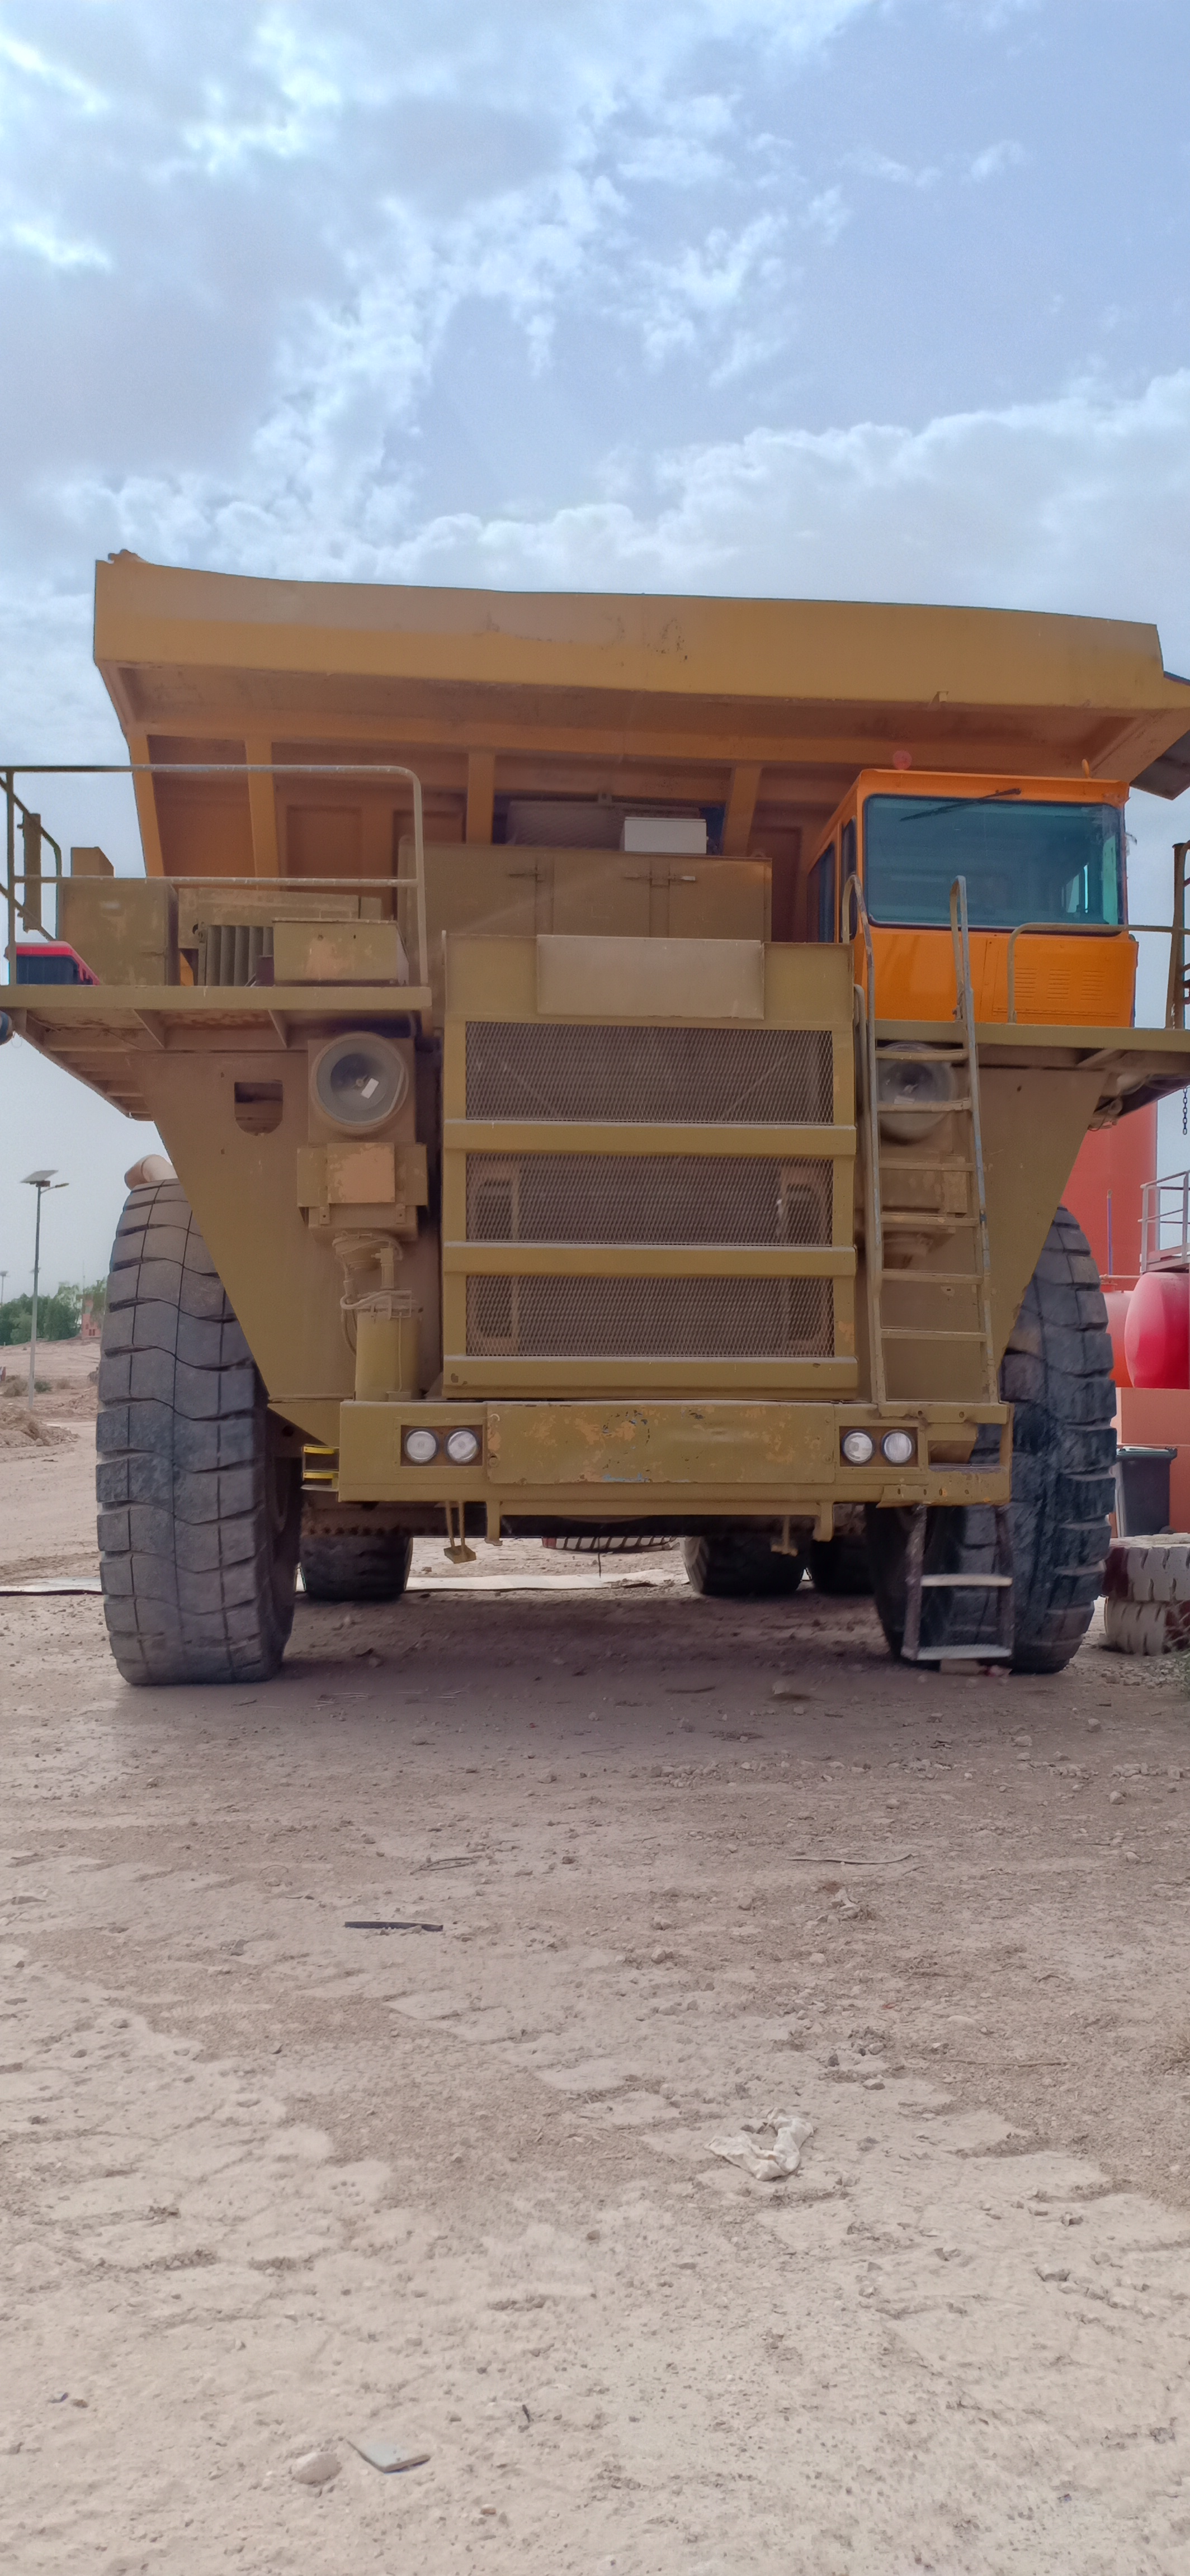camion: (7, 483, 1190, 1699)
